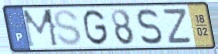8: (110, 8, 136, 47)
G: (82, 8, 110, 47)
M: (20, 7, 61, 49)
S: (53, 8, 84, 48), (136, 7, 164, 46)
Z: (162, 7, 194, 45)
